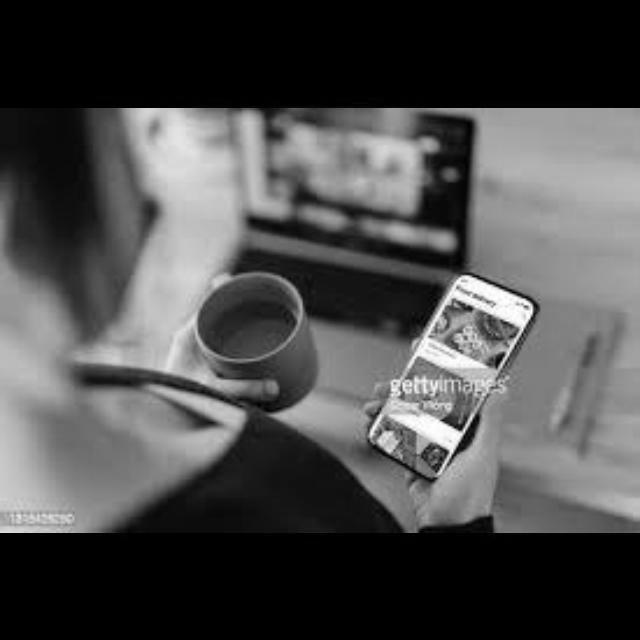fake: (376, 249, 542, 508)
